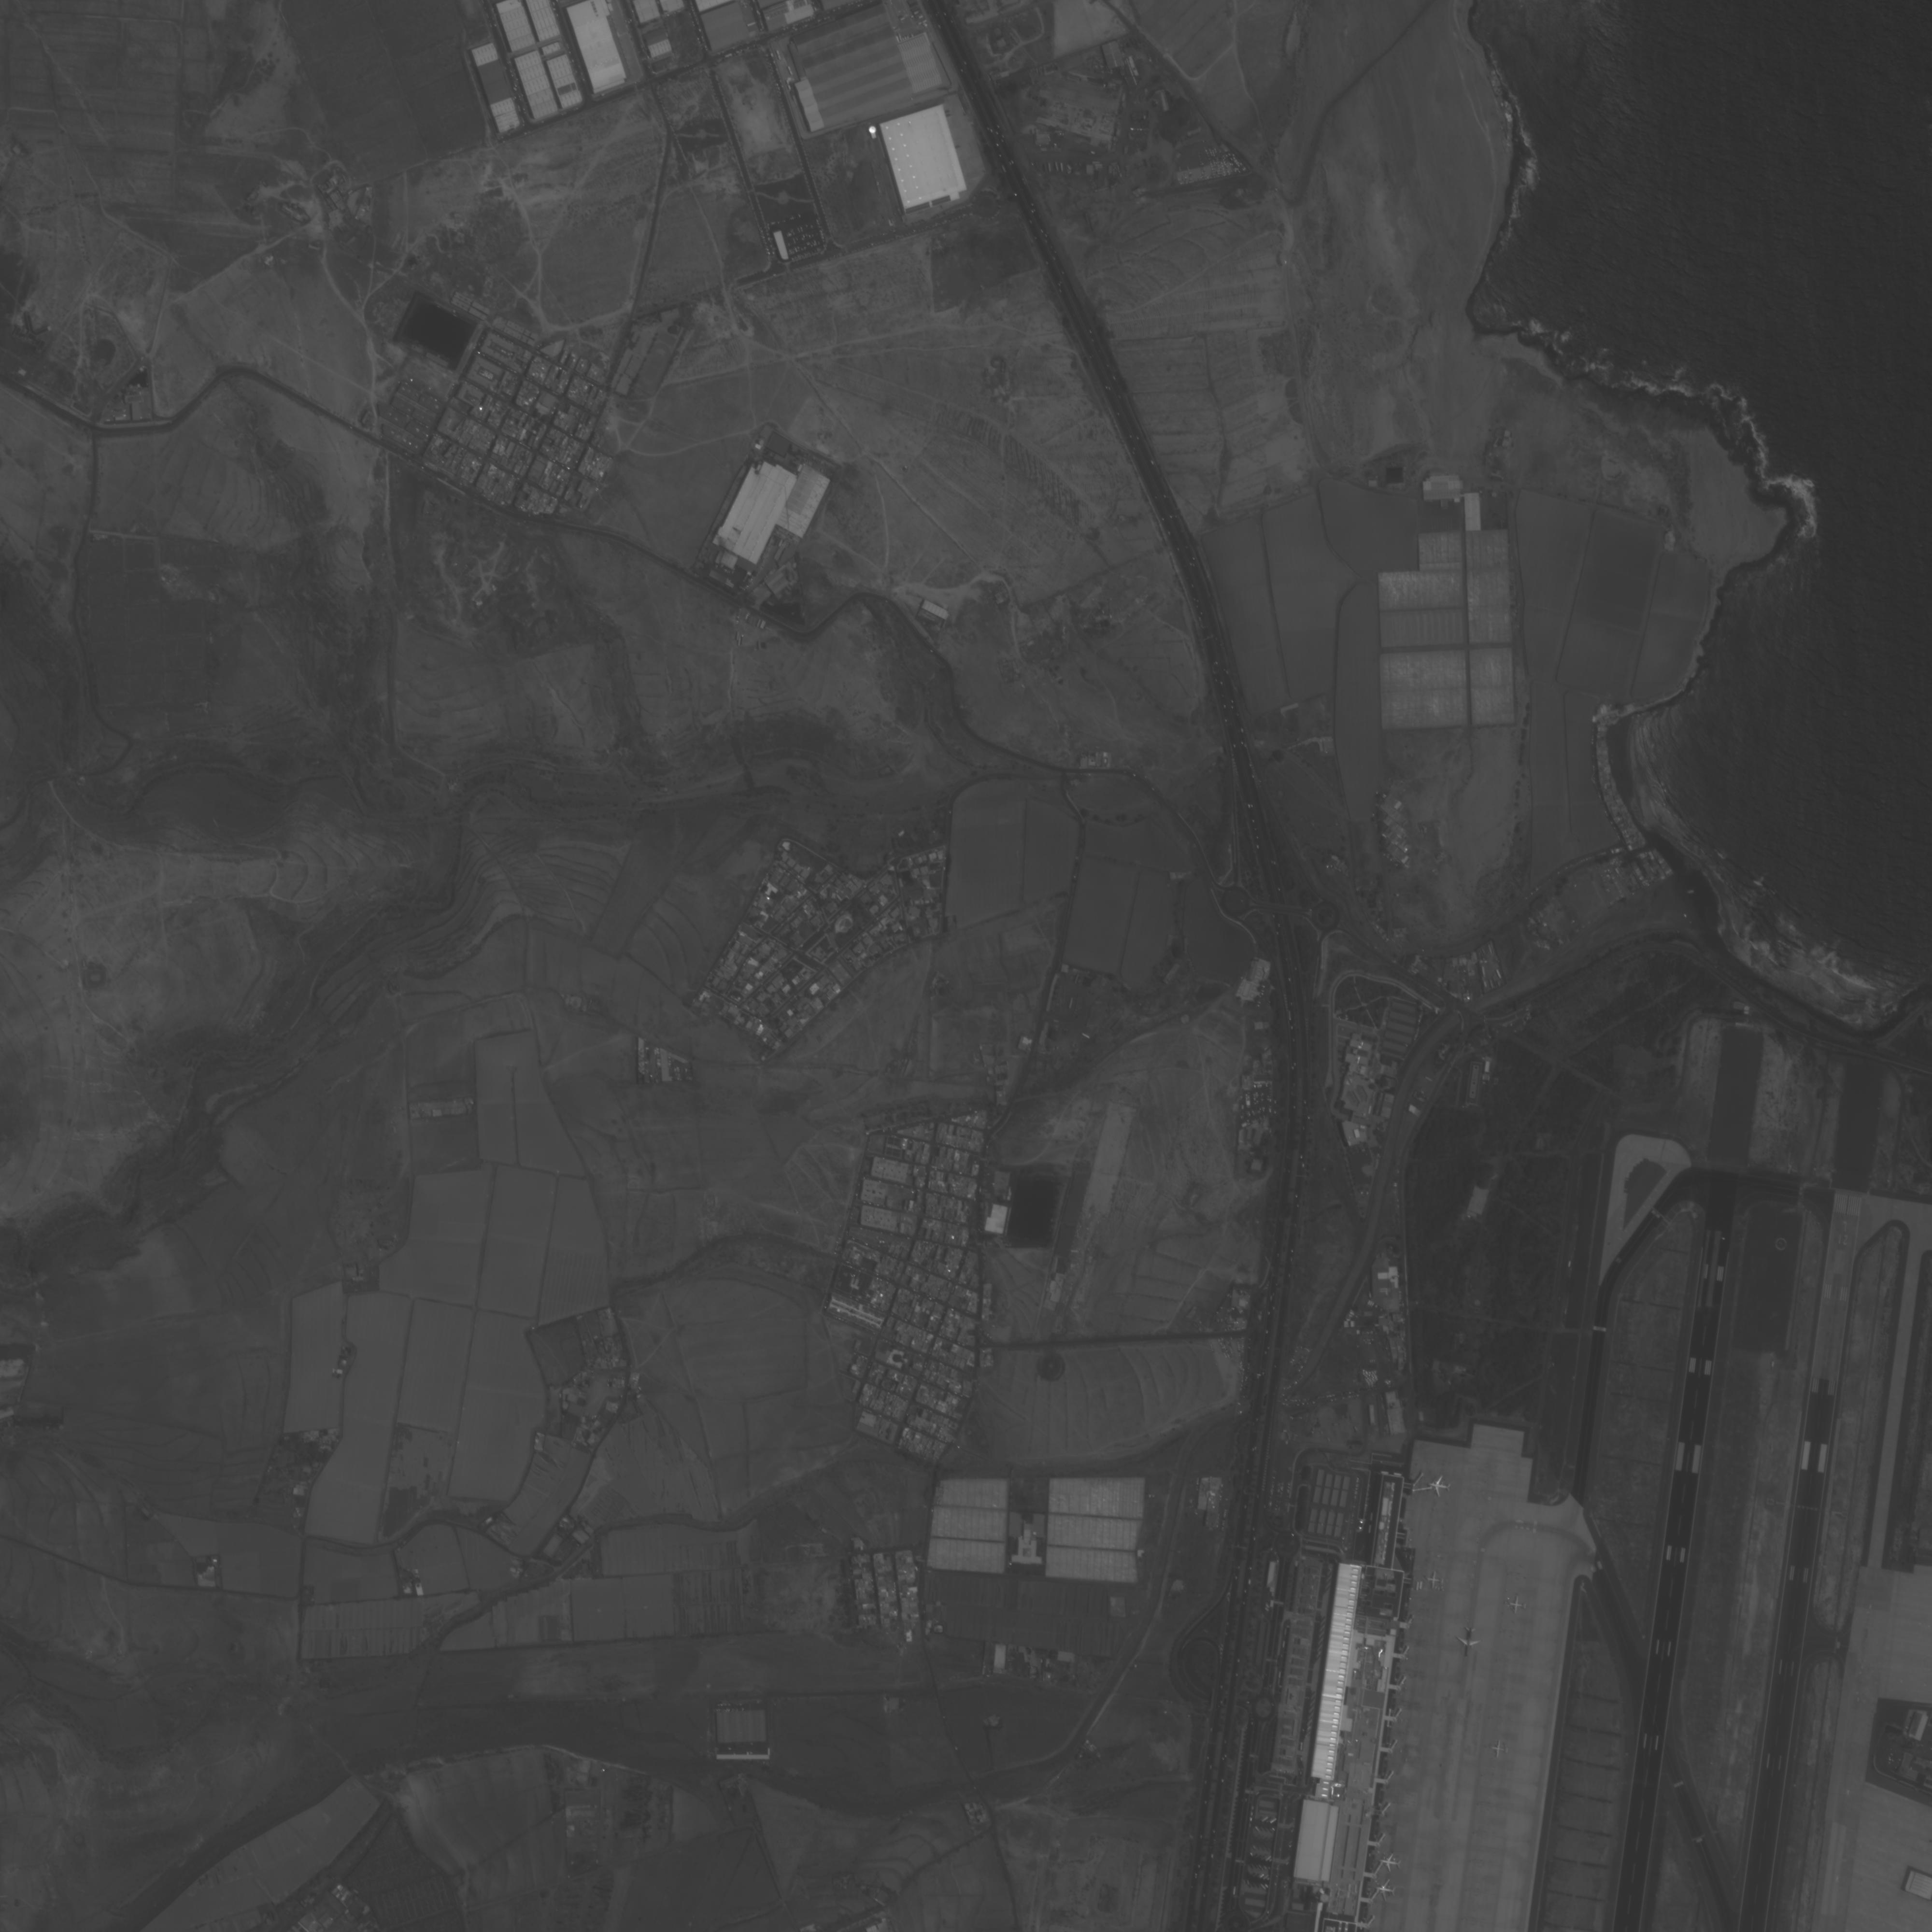plane: (1454, 1626, 1483, 1660), (1426, 1474, 1453, 1500), (1378, 1851, 1403, 1875), (1375, 1877, 1398, 1902), (1424, 1569, 1445, 1592), (1490, 1737, 1509, 1760), (1509, 1594, 1527, 1615)
